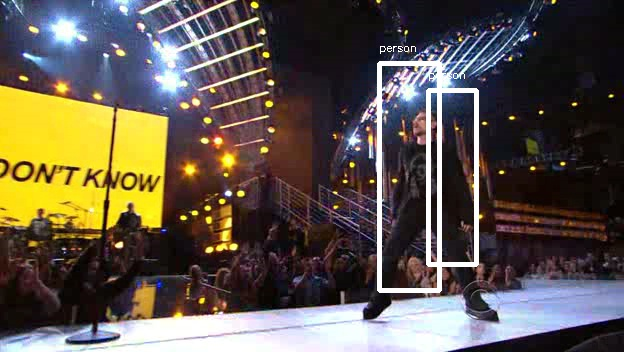person: (392, 111, 460, 233), (389, 111, 457, 233), (395, 111, 463, 233), (392, 108, 460, 230), (392, 114, 460, 236)
target_negative: (542, 110, 579, 219), (57, 337, 587, 344), (169, 192, 322, 213), (157, 338, 476, 339), (591, 320, 611, 330), (622, 321, 624, 338)
